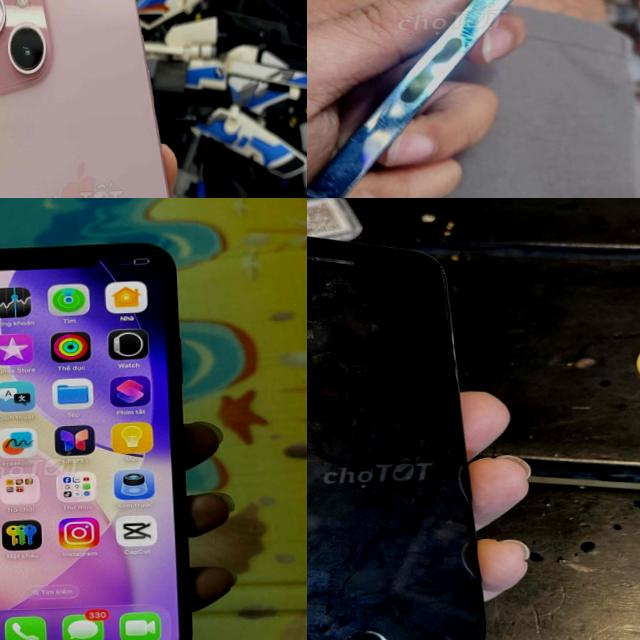scratch: (307, 263, 362, 302), (346, 309, 390, 343), (307, 300, 321, 349)
